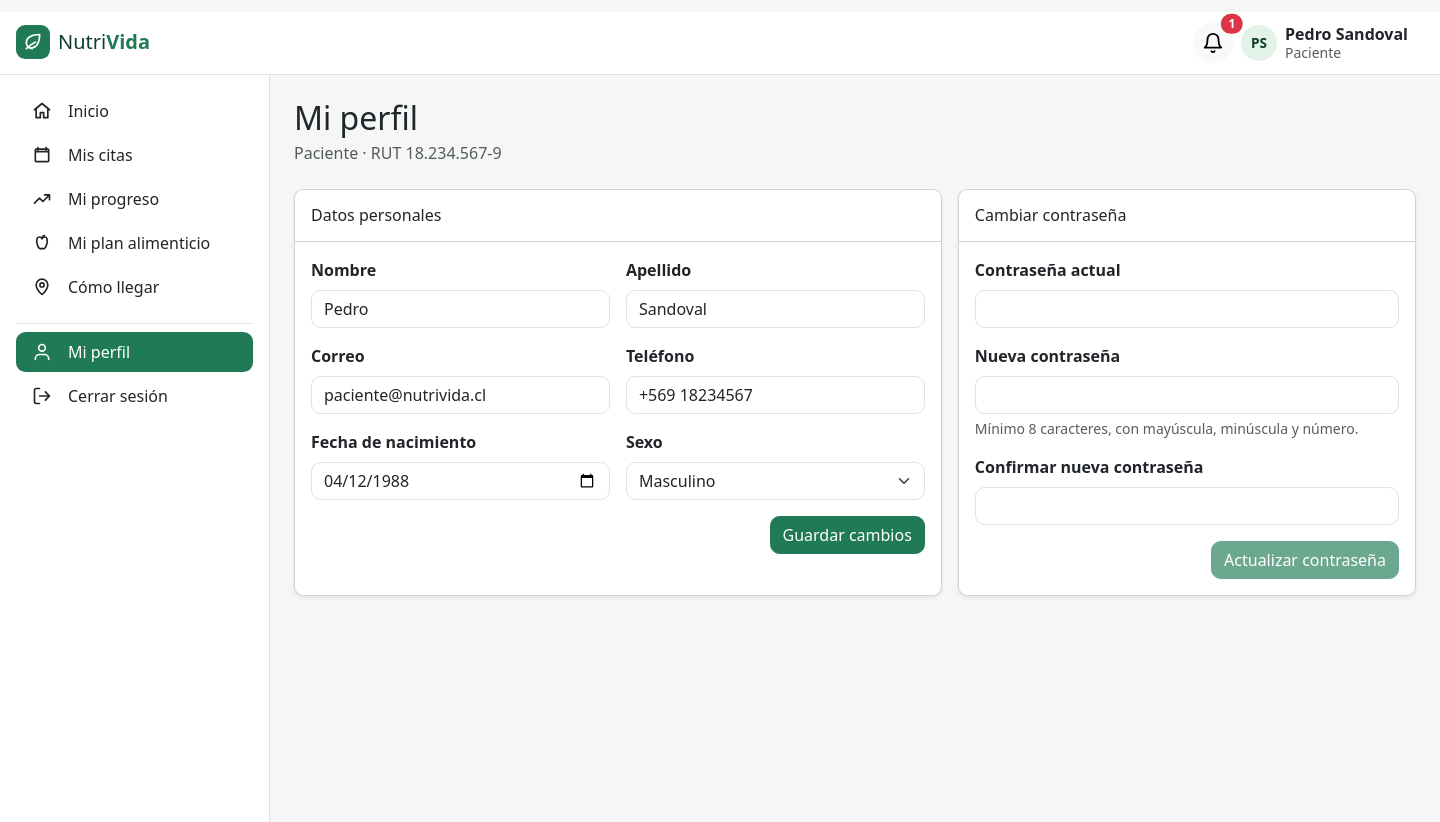
Test: pages/Notificaciones y pages/Perfil › actualiza los datos personales del perfil
Replace the text in the field labelled "Teléfono" with "+56 9 1111 2222" at point(775, 395), box [626,376,925,414]
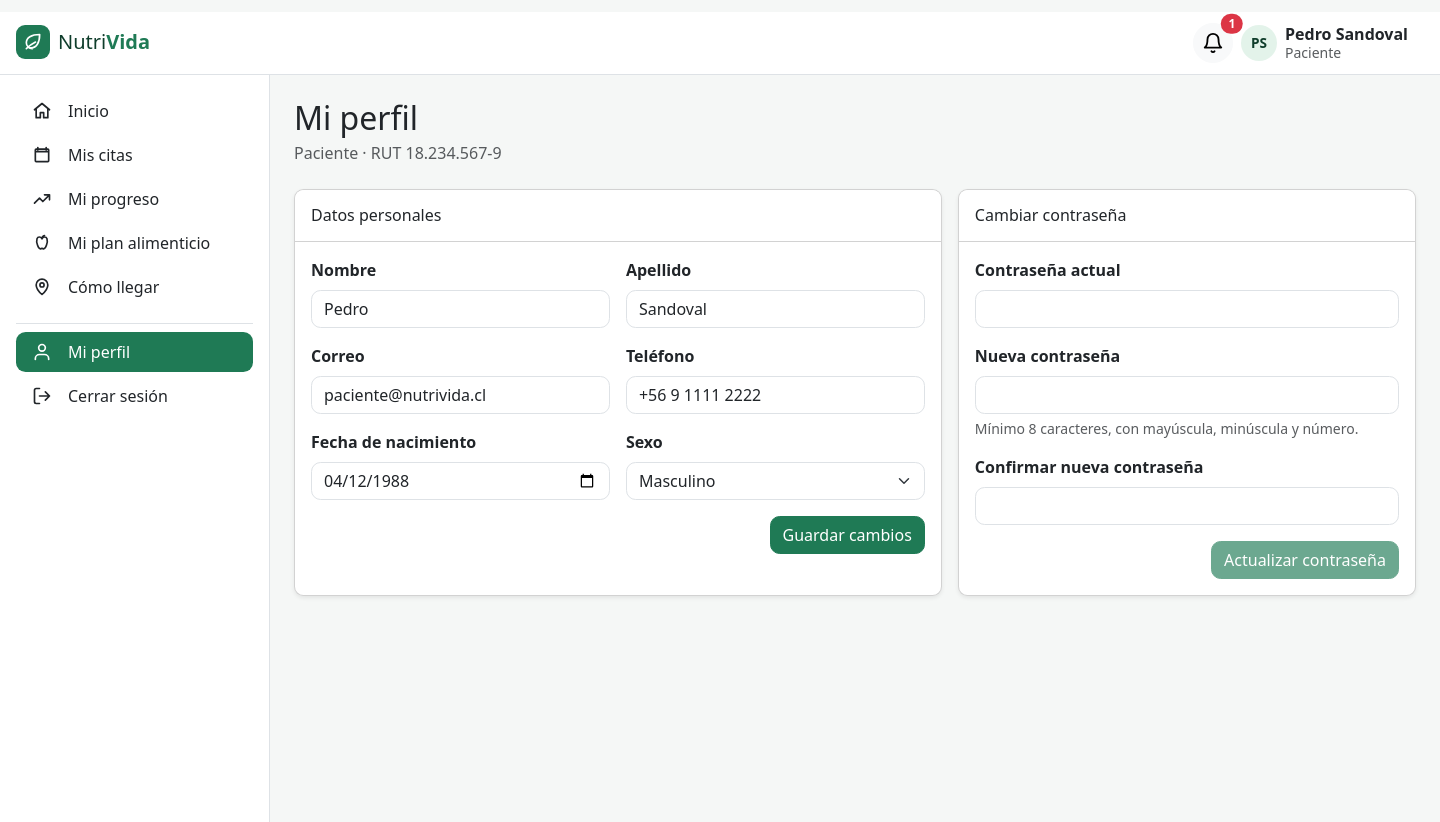
Click the button "Guardar cambios".
click(847, 535)  # box [770,516,925,554]
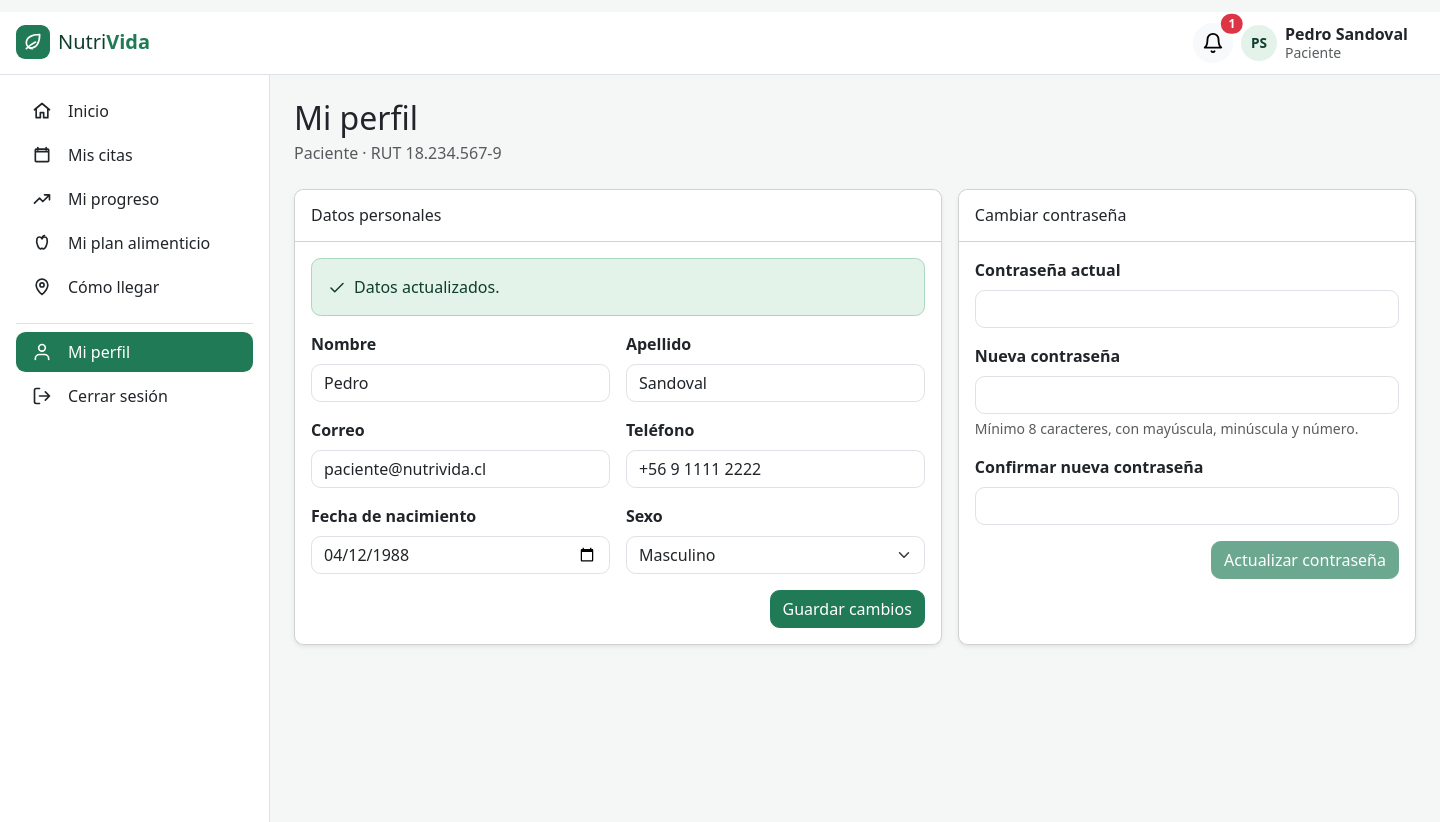
expect the text "Datos actualizados." is shown: met, box [354,275,500,299]
